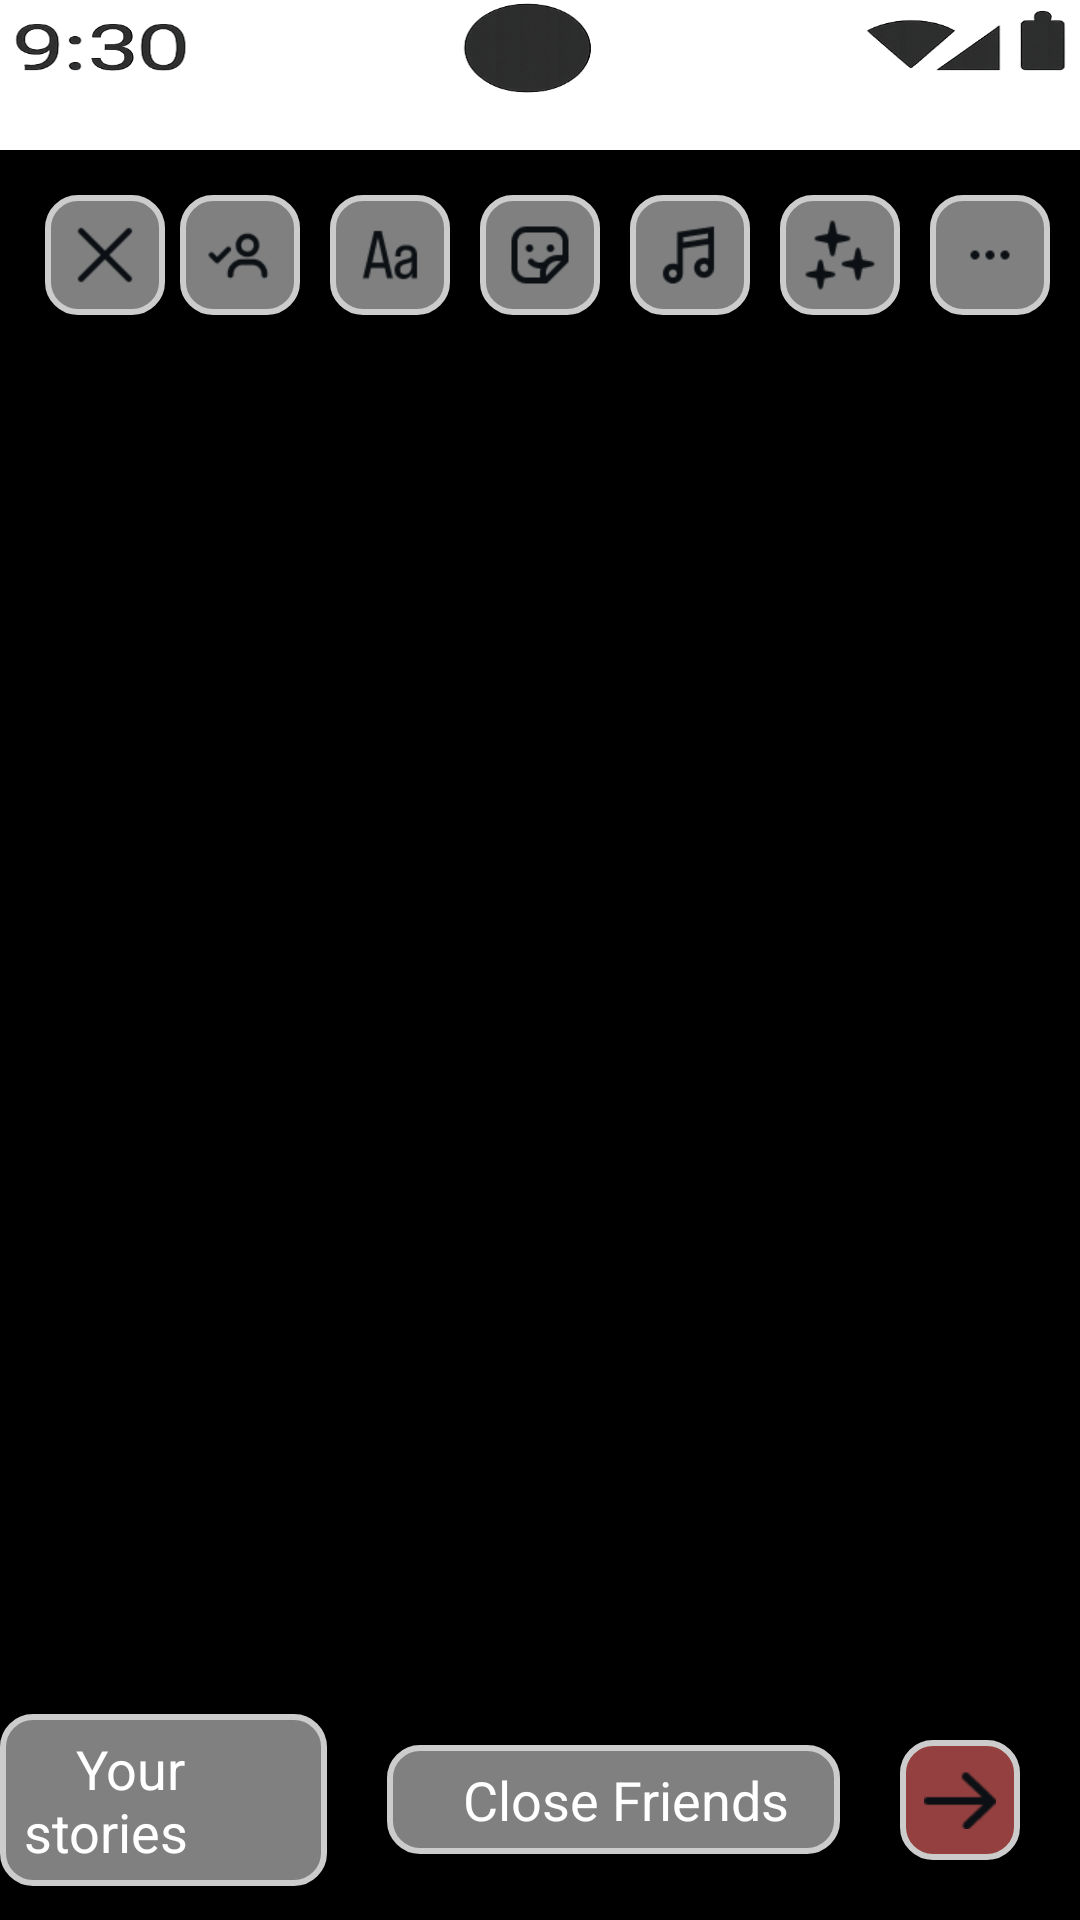

Icons on this 1080px x 1920px Android screen, each with its box as bbox(x1, y1, x2, y2):
closeicon: bbox(45, 195, 165, 315)
doublea: bbox(330, 195, 450, 315)
moreop: bbox(930, 195, 1050, 315)
music: bbox(630, 195, 750, 315)
rightarrow: bbox(900, 1740, 1020, 1860)
stickers: bbox(480, 195, 600, 315)
threestars: bbox(780, 195, 900, 315)
